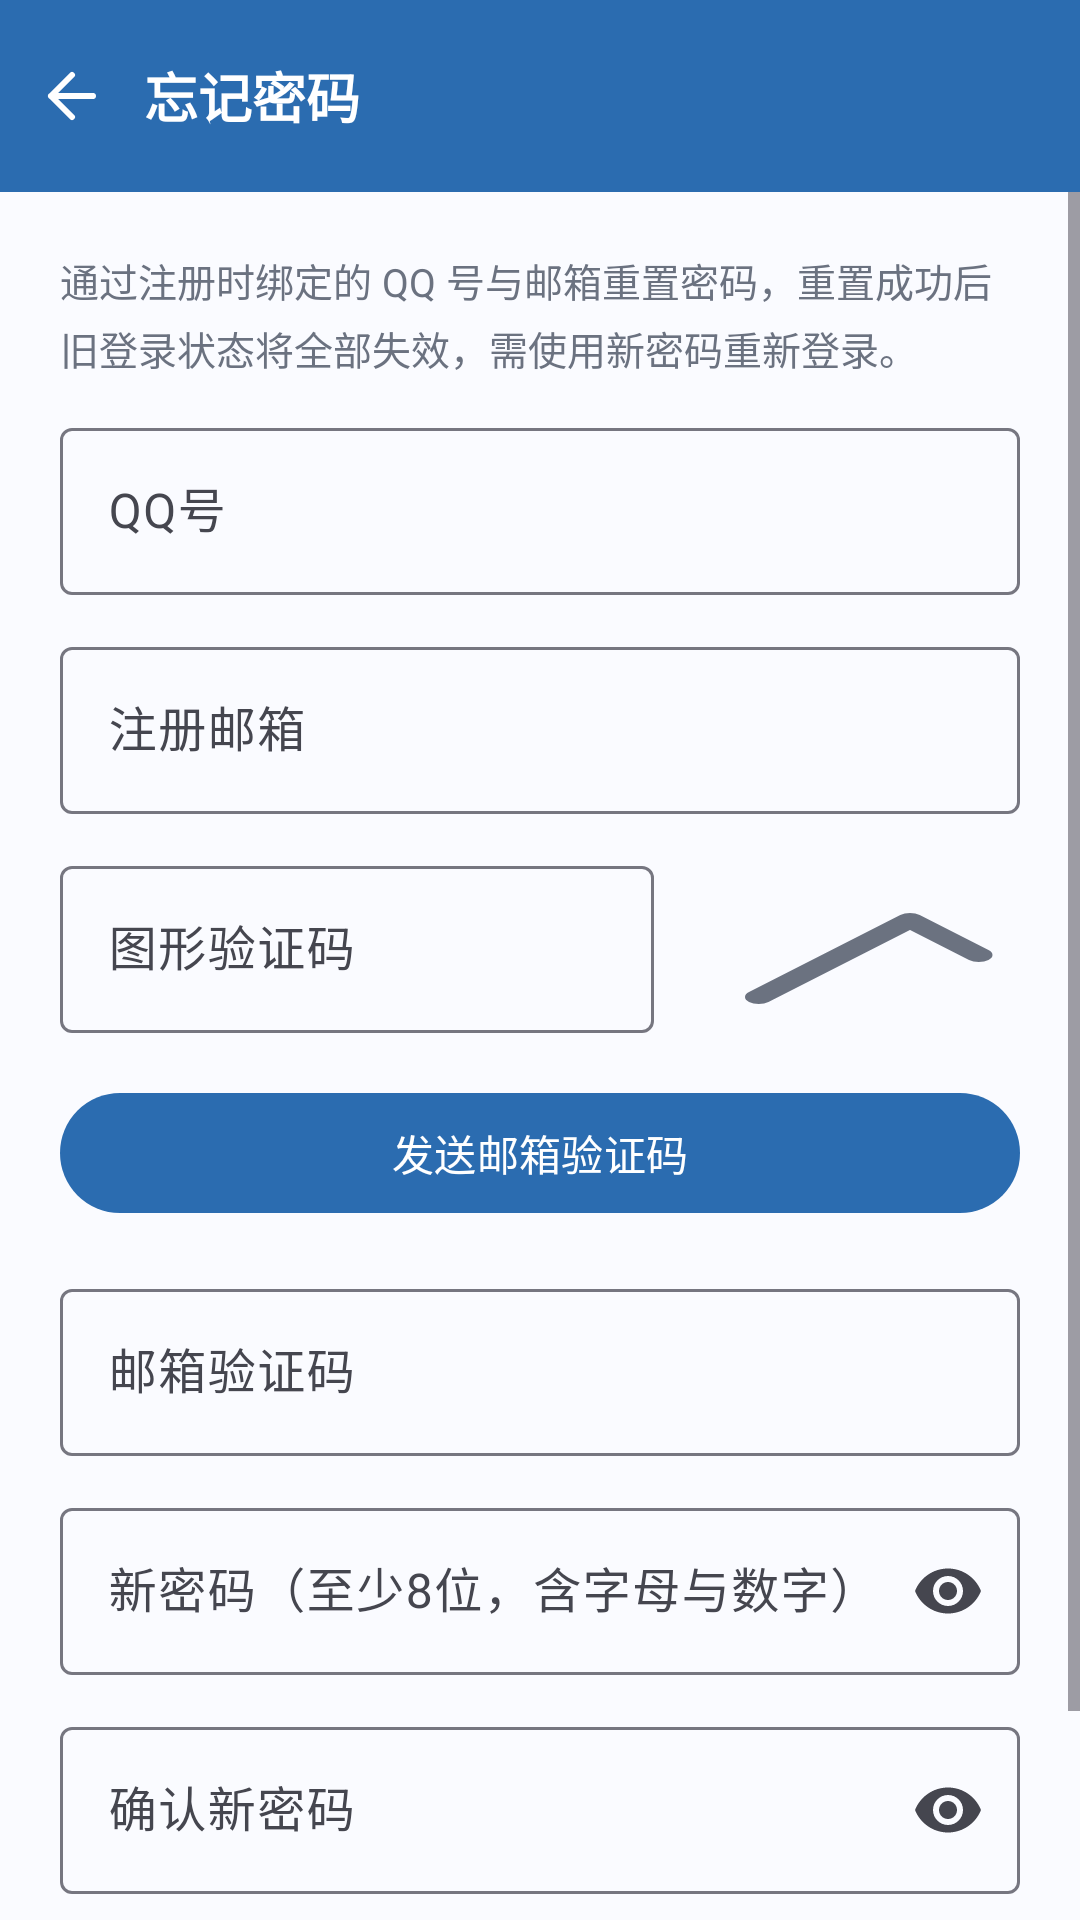

Screen size 1080w x 1920h. Icon name, then its center in pixels as point (x, y):
返回: point (72, 96)
